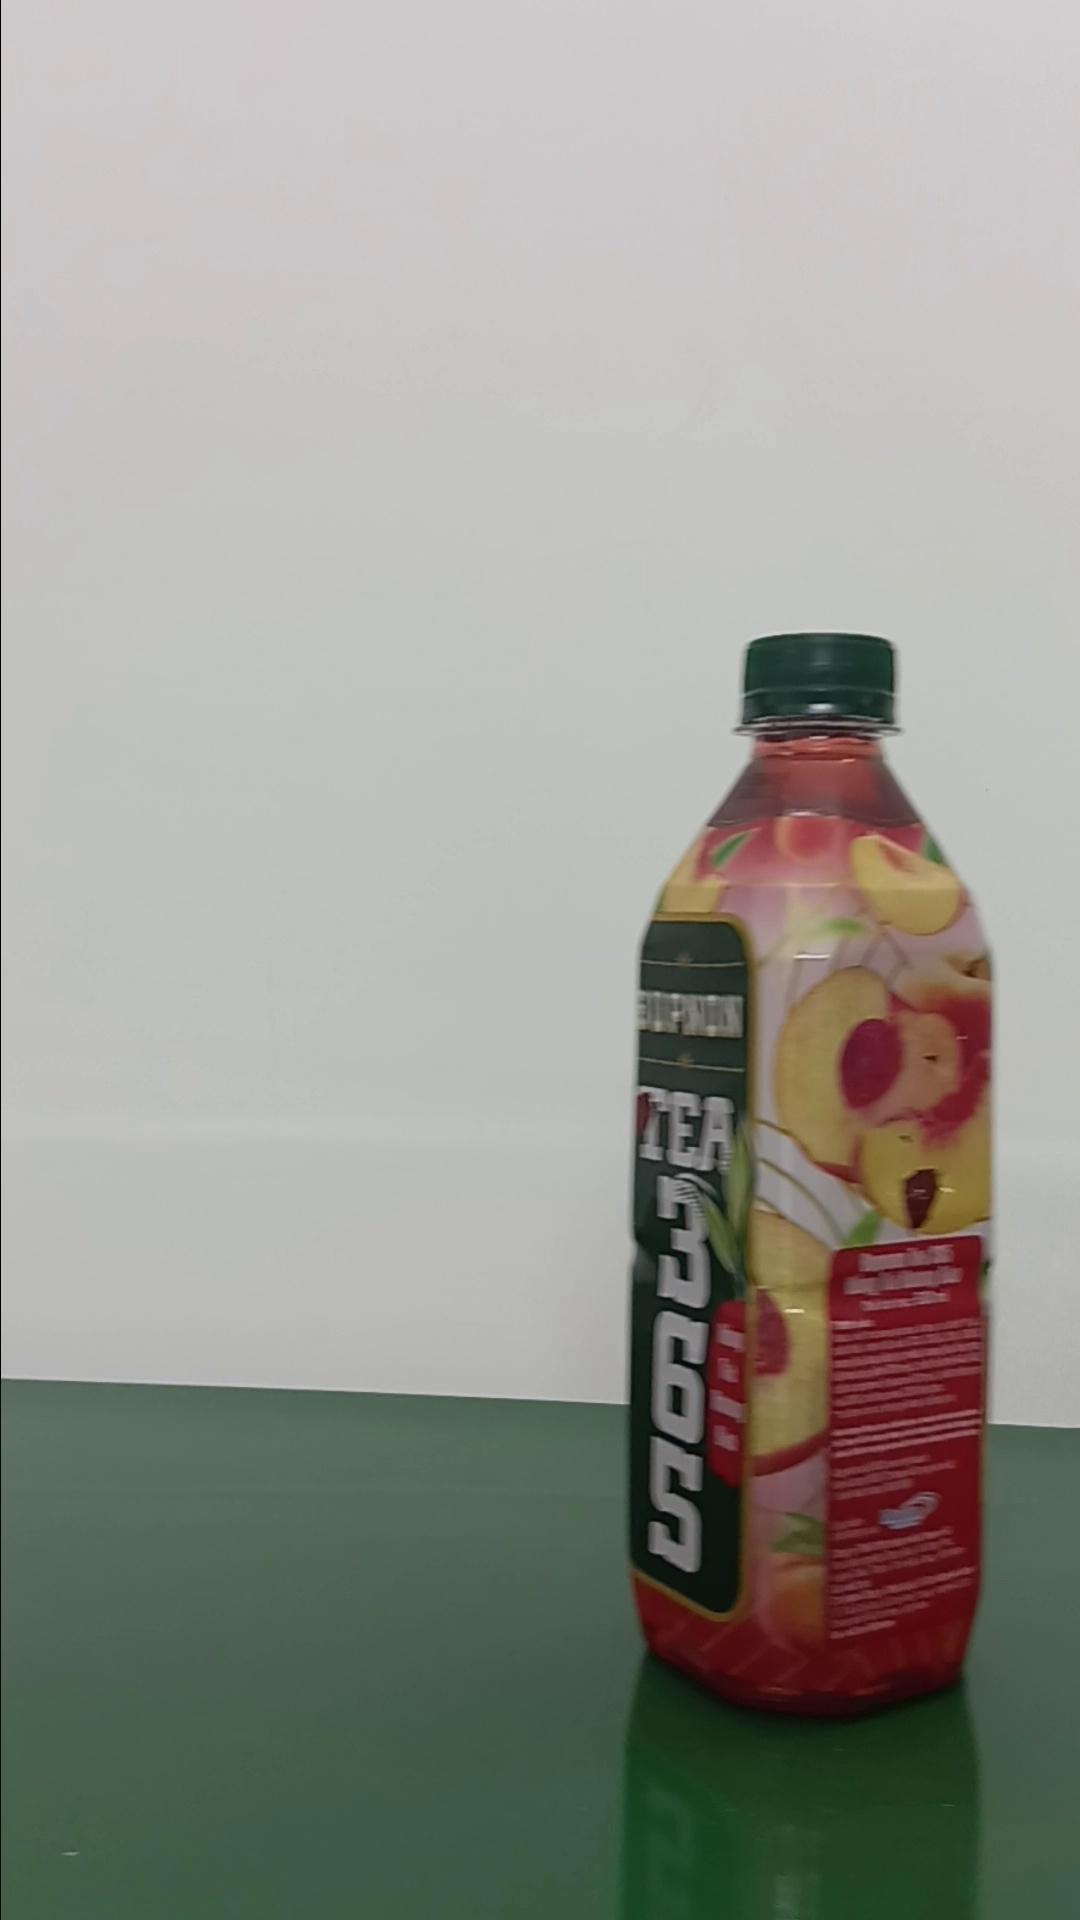loi rach va lap chai: (620, 625, 1007, 1730)
